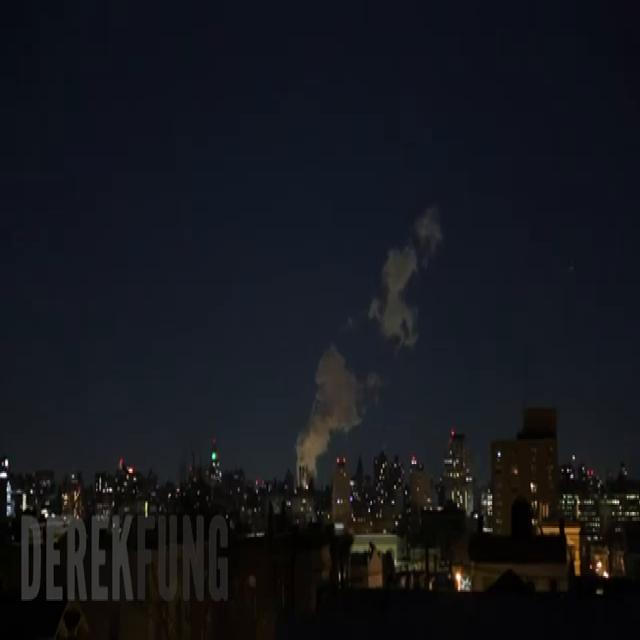smoke: (297, 345, 370, 491), (369, 203, 443, 343)
